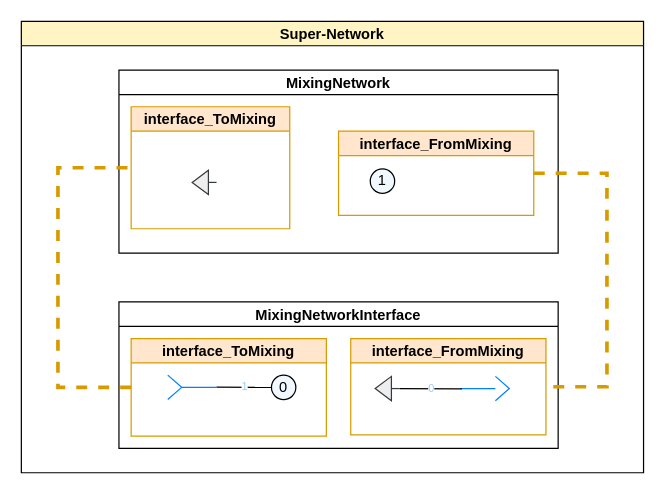
Some shapes in this 665 by 494 pixel diagram are drawn without their labels. Here are the shapes that lost their labels. From the top down, the centre of each, then its label:
At (x=192, y=387): "external_demand".
At (x=484, y=388): "external_supply".
